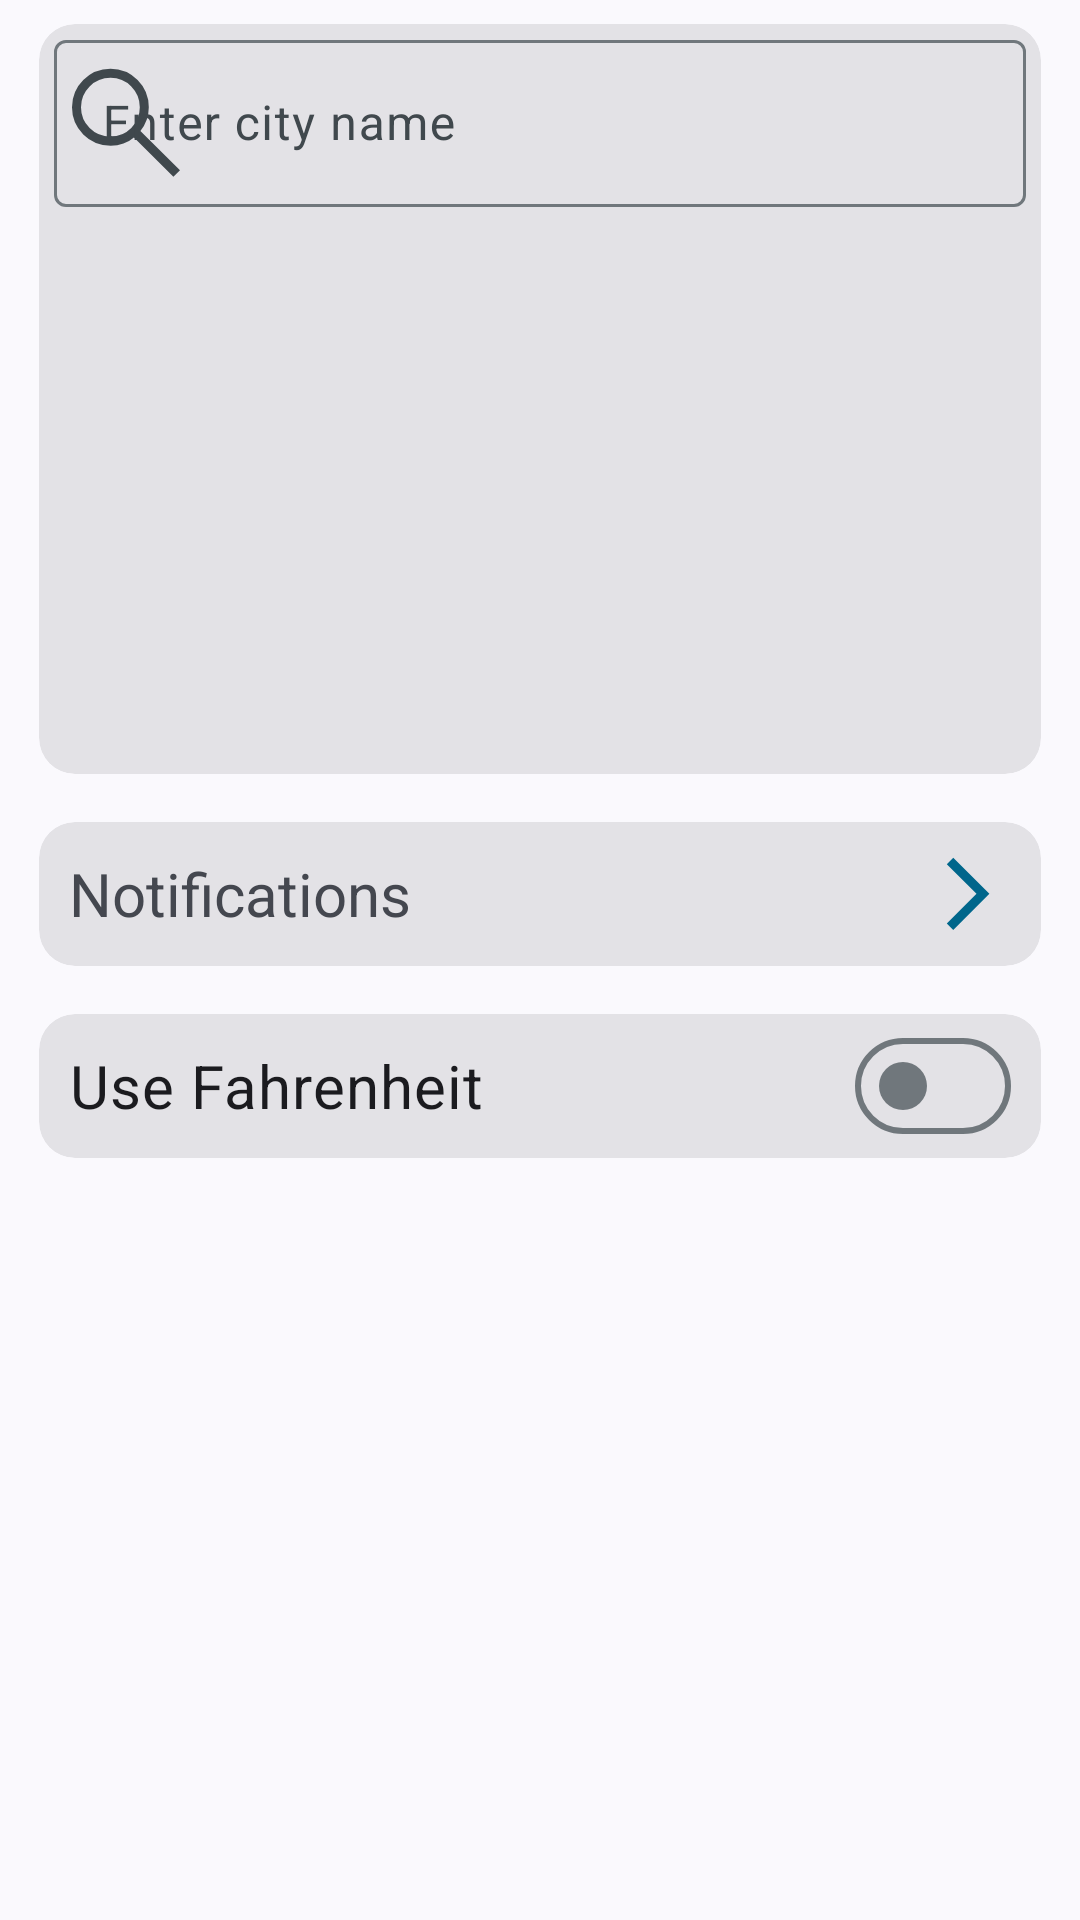

Icons on this 1080x1920 Android screen, each with its box as [left=x1, top=y1, right=x2, bottom=y2]:
right arrow: [left=897, top=822, right=1041, bottom=966]
